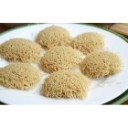idiyappam: (1, 59, 40, 89), (46, 69, 85, 98), (1, 36, 39, 62), (42, 46, 80, 70), (81, 54, 123, 75), (37, 23, 72, 48), (74, 31, 104, 52)
